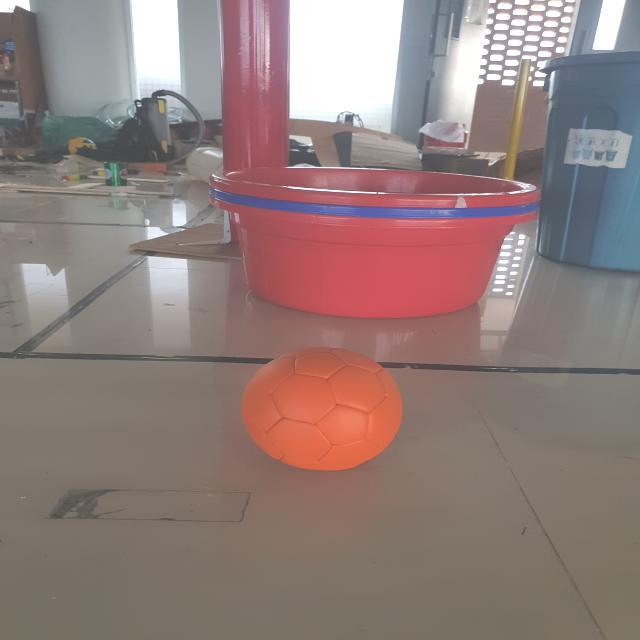bola: (226, 342, 422, 487)
